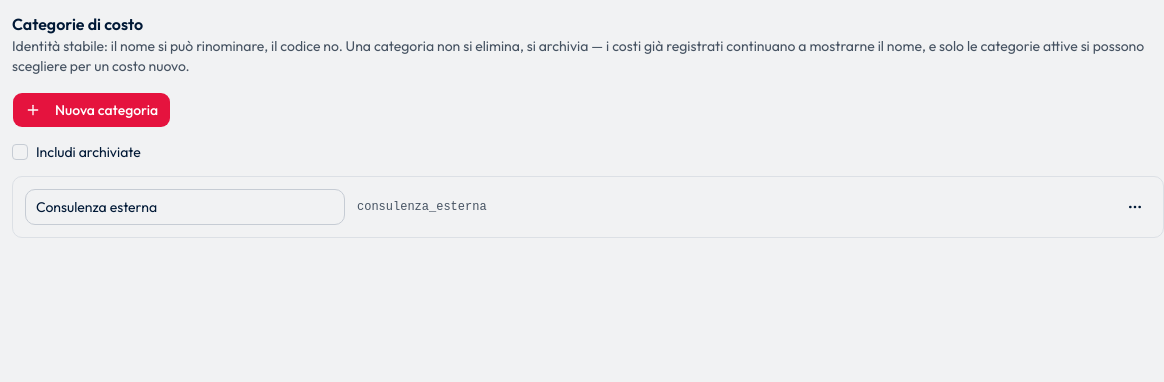
Test case: CostCategoriesPanel › keeps an archived category readable and restorable behind the checkbox
Expected: the number of list items is 1, [13,177,1163,237]
Expected: the text "Archiviata" is not shown
Click the checkbox named "Includi archiviate": {"x": 20, "y": 152} [12,144,28,160]
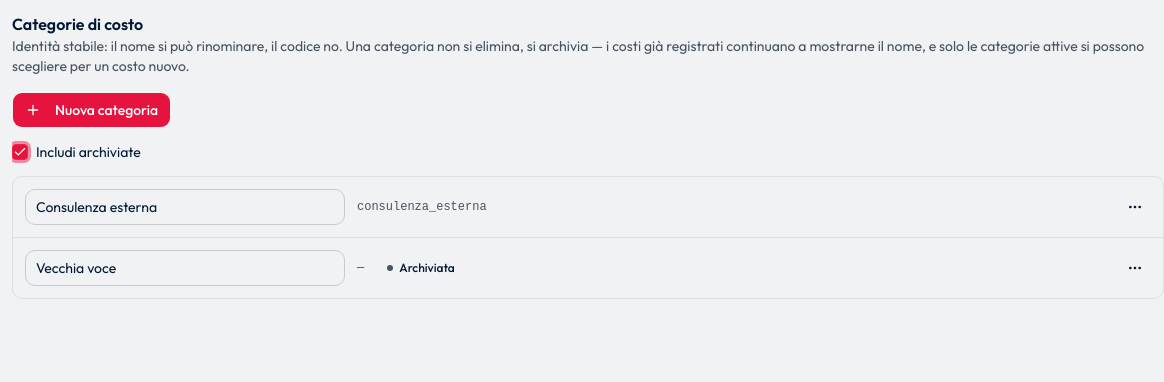
Result: the number of list items is 2 at [13,177,1163,238]; [13,238,1163,298]
Click the button named "Azioni per Vecchia voce": {"x": 1135, "y": 268} [1119,252,1151,284]
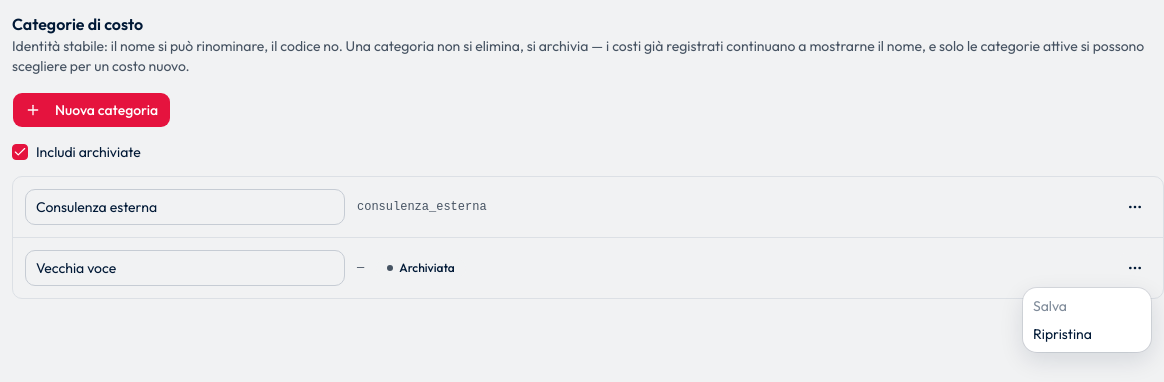
Result: the menu item "Ripristina" is shown at [1033,325,1092,343]
